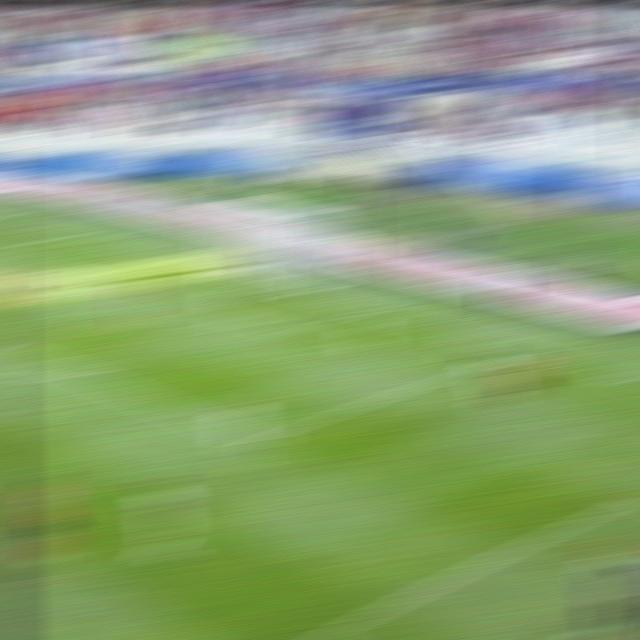bigarea_bottom_inner: (233, 426, 277, 450)
bigarea_top_outter: (51, 225, 90, 240)
bottom_arc_area_intersection: (60, 363, 103, 385)
smallarea_bottom_inner: (271, 321, 310, 340)
smallarea_bottom_outter: (345, 300, 386, 318)
smallarea_top_inner: (77, 267, 119, 283)
smallarea_top_outter: (147, 249, 186, 264)
